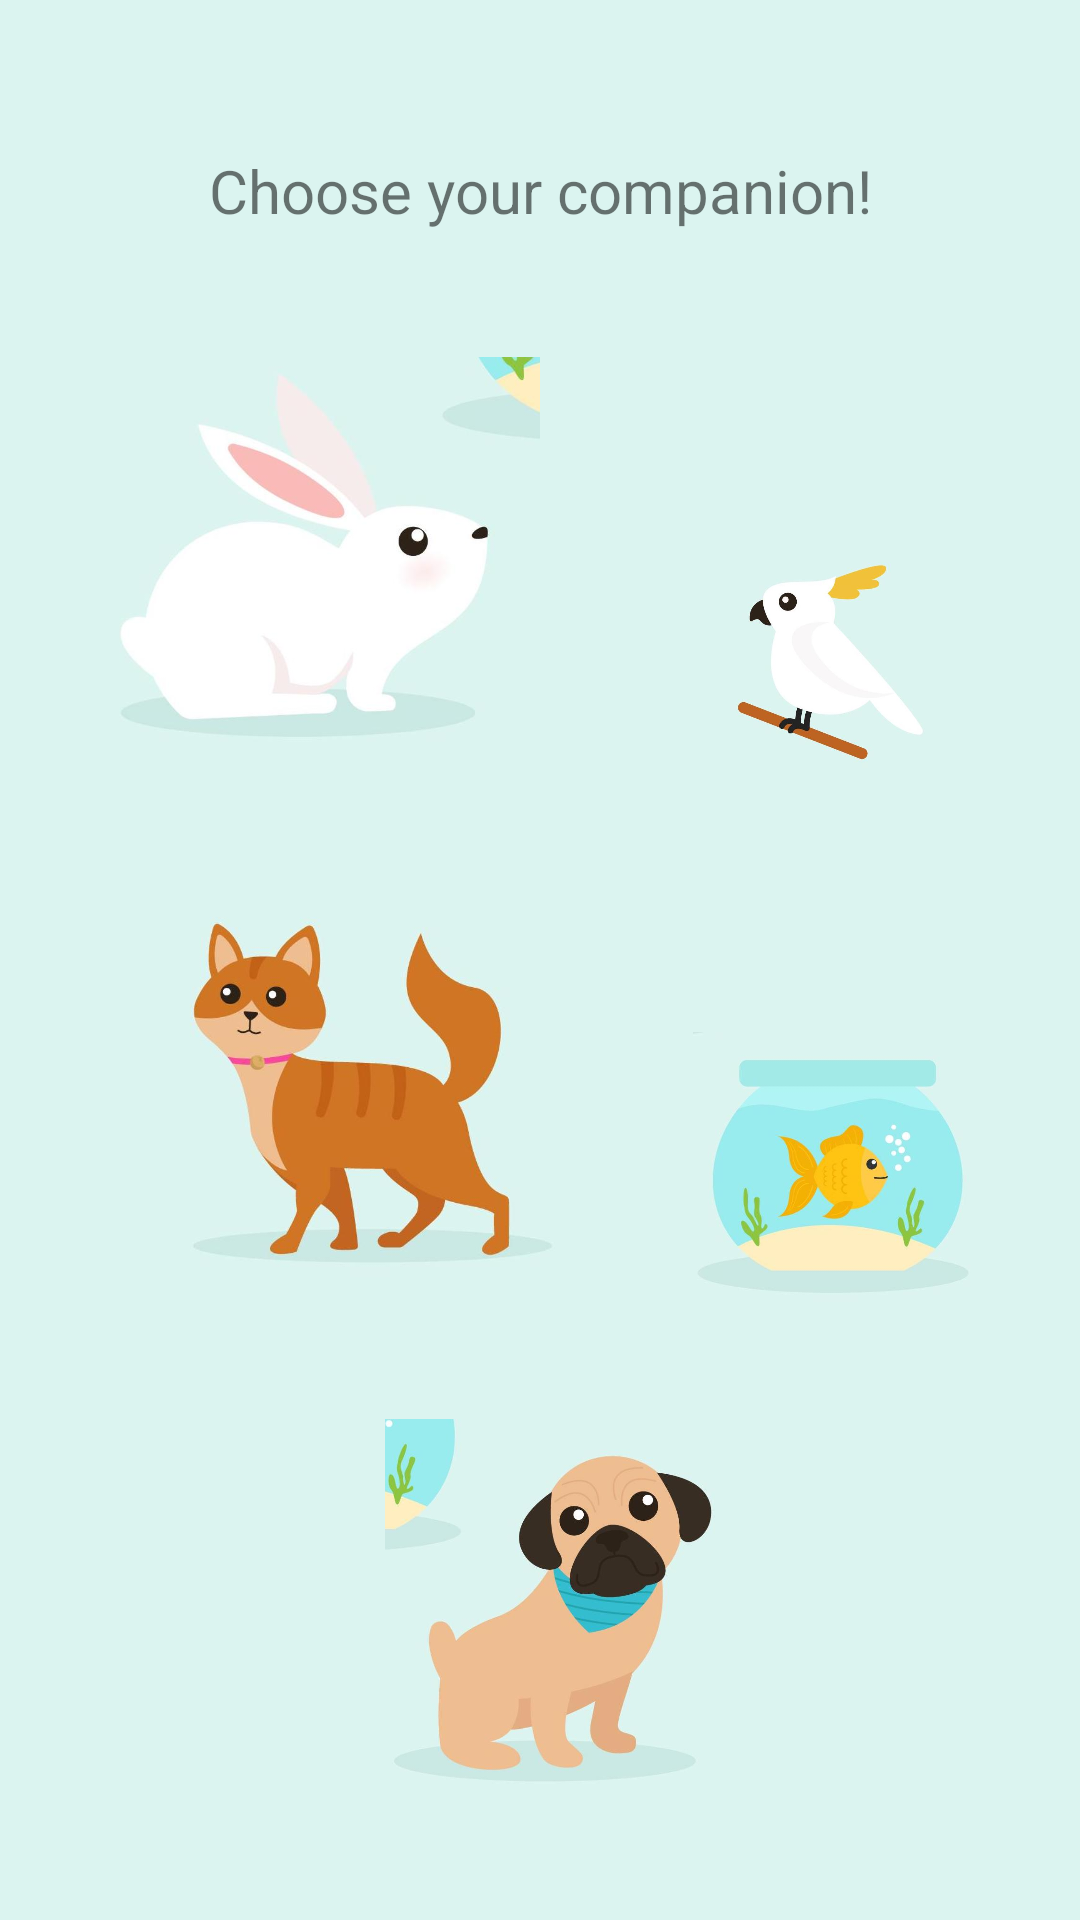

Icon click points for this 1080 x 1920 phone screenshot, format point (x, y):
bird: point (830, 662)
cat: point (351, 1090)
dog: point (548, 1595)
fish: point (838, 1165)
